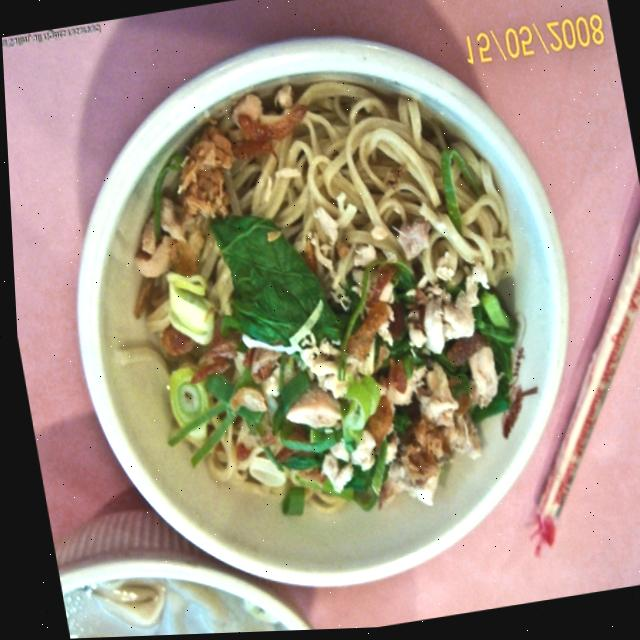面条主食: (53, 25, 604, 605)
